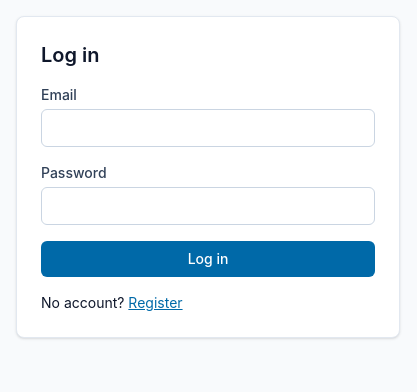
LoginPage › FR-UI-001: shows the server message for wrong credentials
Type "ada@example.com" into the field labelled "Email".
click(208, 128); type("ada@example.com")  # box [41,109,375,147]
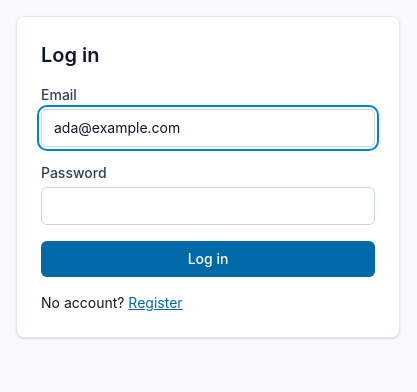
Type "wrong-pass1" into the password field labelled "Password".
click(208, 206); type("wrong-pass1")  # box [41,187,375,225]
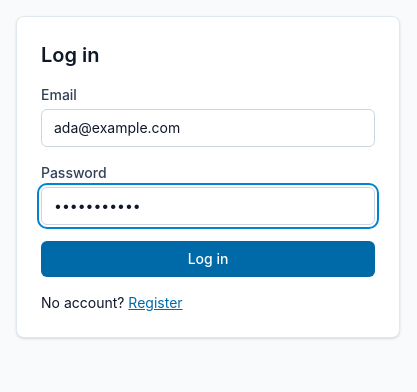
Click the button "Log in".
click(208, 259)  # box [41,241,375,277]
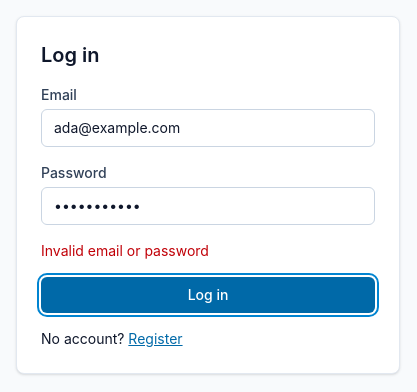
Now the text "Invalid email or password" is shown, box [41,242,209,259]
